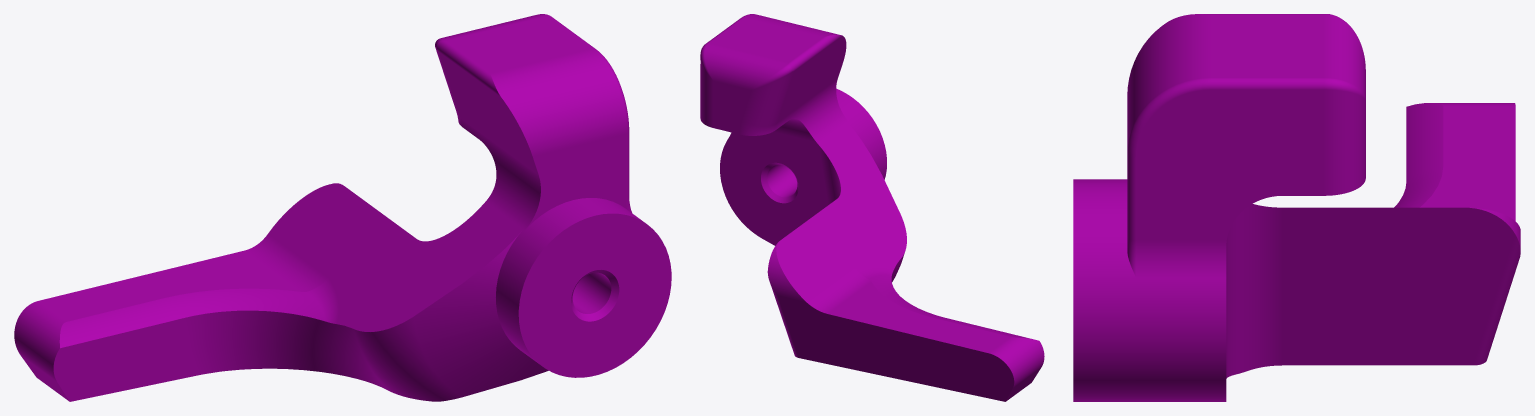
File: liftleverRH.gltf
The picture shows the model from 3 angles, left to right: view 1: azimuth 30°, elevation 25°; view 2: azimuth 150°, elevation 25°; view 3: azimuth 270°, elevation 25°; orthographic projection. The views are drawn at different scales.
Visible parts, largest first — view 1: 68-1365 TAB tester_68-1367; view 2: 68-1365 TAB tester_68-1367; view 3: 68-1365 TAB tester_68-1367.
Boxes of the visible parts, left/top/right/bottom form: 68-1365 TAB tester_68-1367: left=14, top=14, right=671, bottom=401; 68-1365 TAB tester_68-1367: left=700, top=14, right=1044, bottom=401; 68-1365 TAB tester_68-1367: left=1073, top=14, right=1520, bottom=401.
Size of the model in its own units: 0.0399 by 0.0245 by 0.0252.
